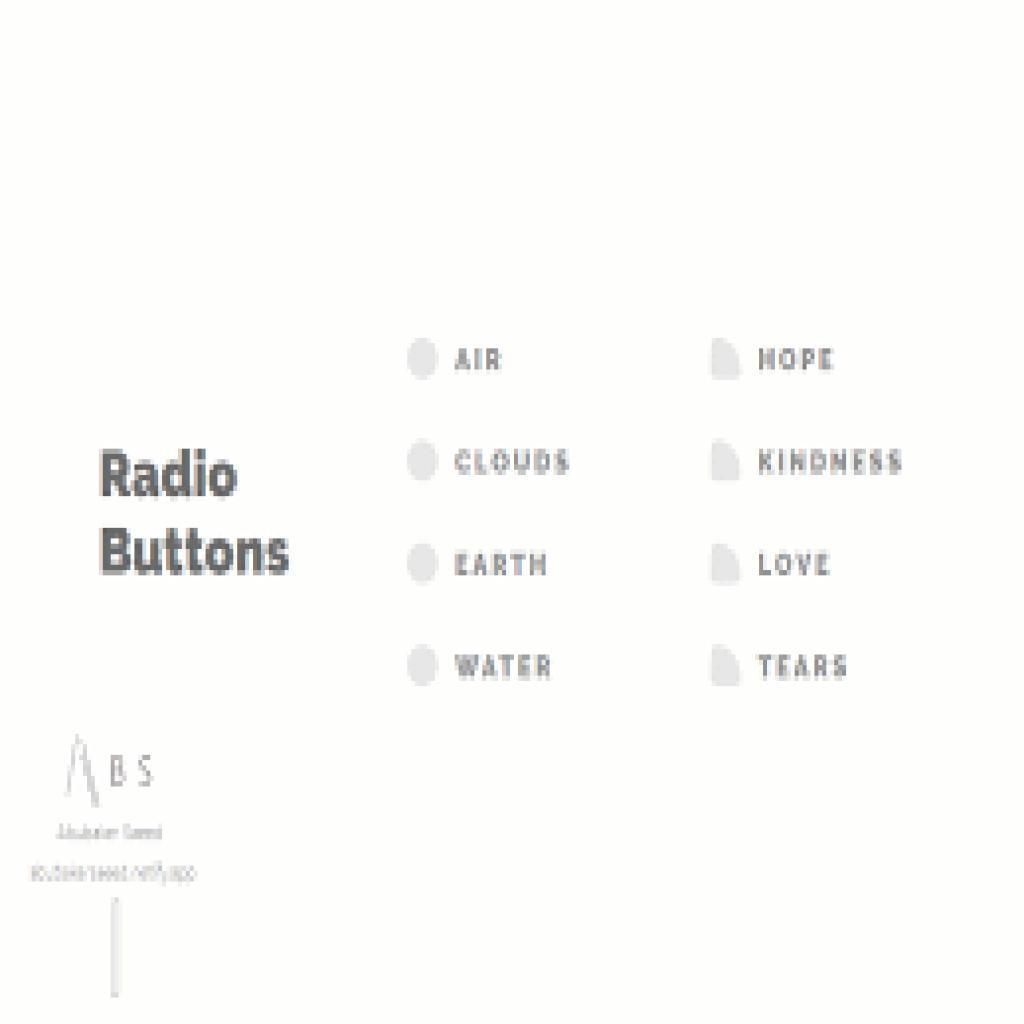label: (758, 445, 905, 481), (452, 445, 576, 480), (450, 545, 552, 586), (454, 648, 552, 685), (754, 651, 858, 685), (754, 551, 838, 580), (757, 345, 838, 374), (452, 340, 506, 377)
radio: (402, 643, 447, 693), (404, 335, 444, 389), (709, 642, 750, 692), (708, 336, 748, 387), (404, 541, 443, 593), (708, 436, 749, 485), (405, 439, 442, 490), (709, 543, 747, 586)
